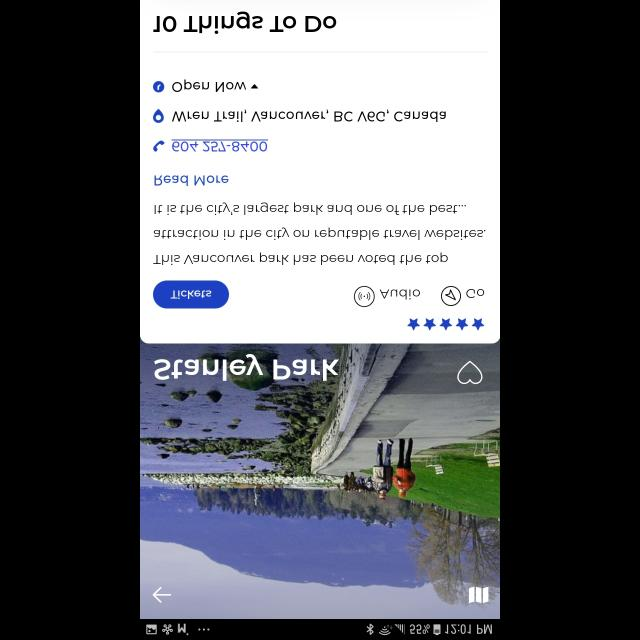icon: (408, 318, 484, 330), (458, 361, 482, 384), (441, 286, 462, 306), (469, 586, 488, 602), (153, 586, 171, 602), (153, 80, 165, 92), (154, 109, 164, 123), (252, 84, 258, 88)
image: (140, 344, 500, 618), (354, 286, 374, 306), (154, 140, 164, 152)
text: (153, 202, 485, 266), (154, 354, 338, 382), (154, 12, 336, 34), (172, 110, 446, 122), (172, 140, 268, 152), (173, 80, 247, 92), (155, 174, 229, 186), (380, 288, 420, 300), (466, 288, 486, 298)
textbutton: (153, 280, 229, 308)
uppertaskbar: (140, 618, 500, 640)
